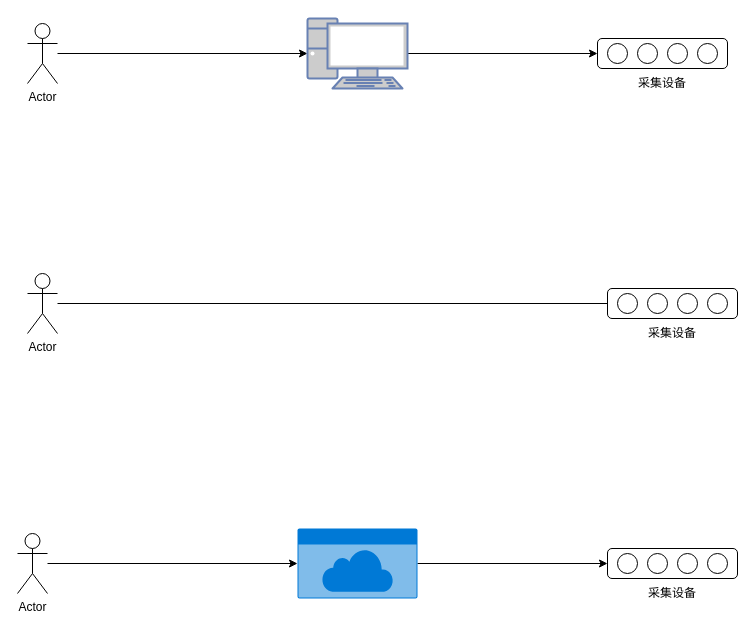
This 755x631 diagram has some shape labels left out. Each missing label, with the centre of its shape:
"Cloud" belongs at point (357, 563).
"PC" belongs at point (357, 53).
